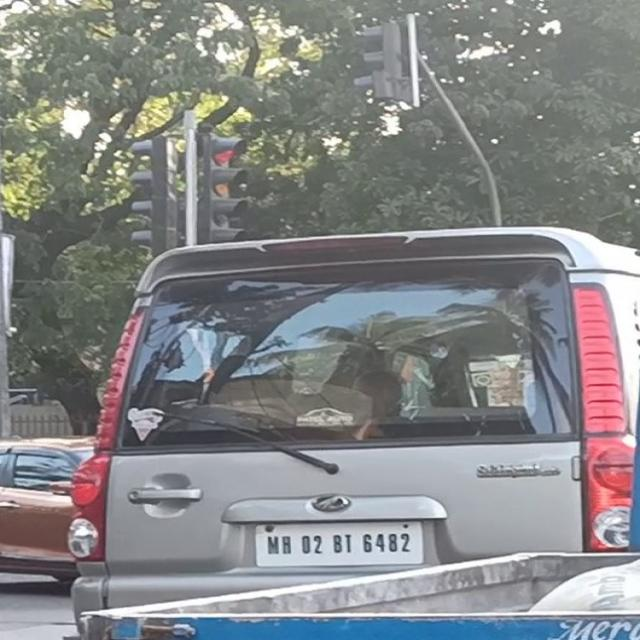Plate: (252, 520, 426, 567)
